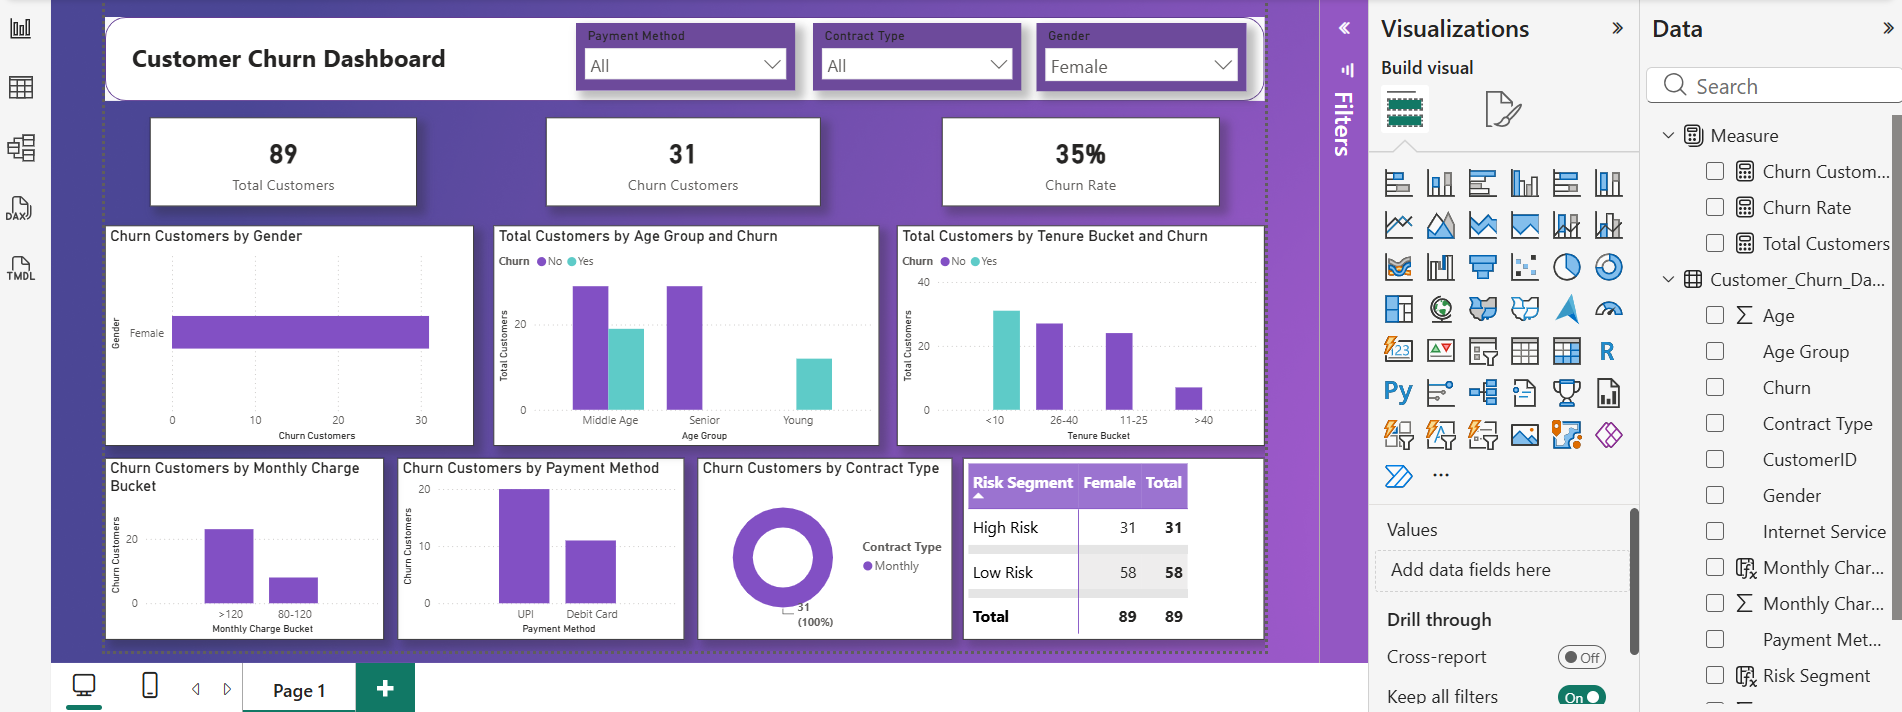

This screenshot's page, from the dashboard's own definition file:
{"tool":"powerbi","page":{"name":"Page 1","canvas":[1280,720],"ordinal":0},"visuals":[{"type":"card","fields":{"Values":["Measure.Total Customers"]},"box":[49.7,130.9,294.9,97.7],"z":0},{"type":"card","fields":{"Values":["Measure.Churn Rate"]},"box":[924.3,130.9,306.4,97.7],"z":1000},{"type":"card","fields":{"Values":["Measure.Churn Customers"]},"box":[487,130.9,303.1,97.7],"z":2000},{"type":"barChart","fields":{"Y":["Measure.Churn Customers"],"Category":["Customer_Churn_Data (1).Gender"]},"box":[0,250.1,407.5,243.5],"z":3000},{"type":"donutChart","fields":{"Category":["Customer_Churn_Data (1).Contract Type"],"Y":["Measure.Churn Customers"]},"box":[654.3,506.9,281.6,200.4],"z":4000},{"type":"clusteredColumnChart","fields":{"Category":["Customer_Churn_Data (1).Payment Method"],"Y":["Measure.Churn Customers"]},"box":[323,506.9,316.4,200.4],"z":5000},{"type":"clusteredColumnChart","fields":{"Category":["Customer_Churn_Data (1).Monthly Charge Bucket"],"Y":["Measure.Churn Customers"]},"box":[0,506.9,308.1,200.4],"z":6000},{"type":"clusteredColumnChart","fields":{"Category":["Customer_Churn_Data (1).Tenure Bucket"],"Y":["Measure.Total Customers"],"Series":["Customer_Churn_Data (1).Churn"]},"box":[874.6,250.1,405.8,243.5],"z":7000},{"type":"clusteredColumnChart","fields":{"Category":["Customer_Churn_Data (1).Age Group"],"Y":["Measure.Total Customers"],"Series":["Customer_Churn_Data (1).Churn"]},"box":[429,250.1,425.7,243.5],"z":8000},{"type":"pivotTable","fields":{"Rows":["Customer_Churn_Data (1).Risk Segment"],"Columns":["Customer_Churn_Data (1).Gender"],"Values":["Measure.Total Customers"]},"box":[947.5,506.9,333,200.4],"z":9000},{"type":"shape","box":[0,19.9,1280.5,92.8],"z":10000},{"type":"textbox","box":[24.8,41.4,579.8,56.3],"z":11000},{"type":"slicer","fields":{"Values":["Customer_Churn_Data (1).Gender"]},"box":[1028.7,26.5,231.9,75],"z":12000},{"type":"slicer","fields":{"Values":["Customer_Churn_Data (1).Contract Type"]},"box":[781.9,26.5,230.3,74.5],"z":13000},{"type":"slicer","fields":{"Values":["Customer_Churn_Data (1).Payment Method"]},"box":[520.1,26.5,241.8,74.5],"z":14000}]}

Visuals, with their boxes on the page's 1280x720 design canvas (x1, y1, x2, y2). These are canvas units, not pixel positions in the 1902x712 screenshot, which may show the page scaled, cropped or inside an application window:
card - Measure.Total Customers: bbox(50, 131, 345, 229)
card - Measure.Churn Rate: bbox(924, 131, 1231, 229)
card - Measure.Churn Customers: bbox(487, 131, 790, 229)
barChart - Measure.Churn Customers x Customer_Churn_Data (1).Gender: bbox(0, 250, 408, 494)
donutChart - Customer_Churn_Data (1).Contract Type x Measure.Churn Customers: bbox(654, 507, 936, 707)
clusteredColumnChart - Customer_Churn_Data (1).Payment Method x Measure.Churn Customers: bbox(323, 507, 639, 707)
clusteredColumnChart - Customer_Churn_Data (1).Monthly Charge Bucket x Measure.Churn Customers: bbox(0, 507, 308, 707)
clusteredColumnChart - Customer_Churn_Data (1).Tenure Bucket x Measure.Total Customers: bbox(875, 250, 1280, 494)
clusteredColumnChart - Customer_Churn_Data (1).Age Group x Measure.Total Customers: bbox(429, 250, 855, 494)
pivotTable - Customer_Churn_Data (1).Risk Segment x Customer_Churn_Data (1).Gender: bbox(948, 507, 1280, 707)
shape: bbox(0, 20, 1280, 113)
textbox: bbox(25, 41, 605, 98)
slicer - Customer_Churn_Data (1).Gender: bbox(1029, 26, 1261, 102)
slicer - Customer_Churn_Data (1).Contract Type: bbox(782, 26, 1012, 101)
slicer - Customer_Churn_Data (1).Payment Method: bbox(520, 26, 762, 101)
